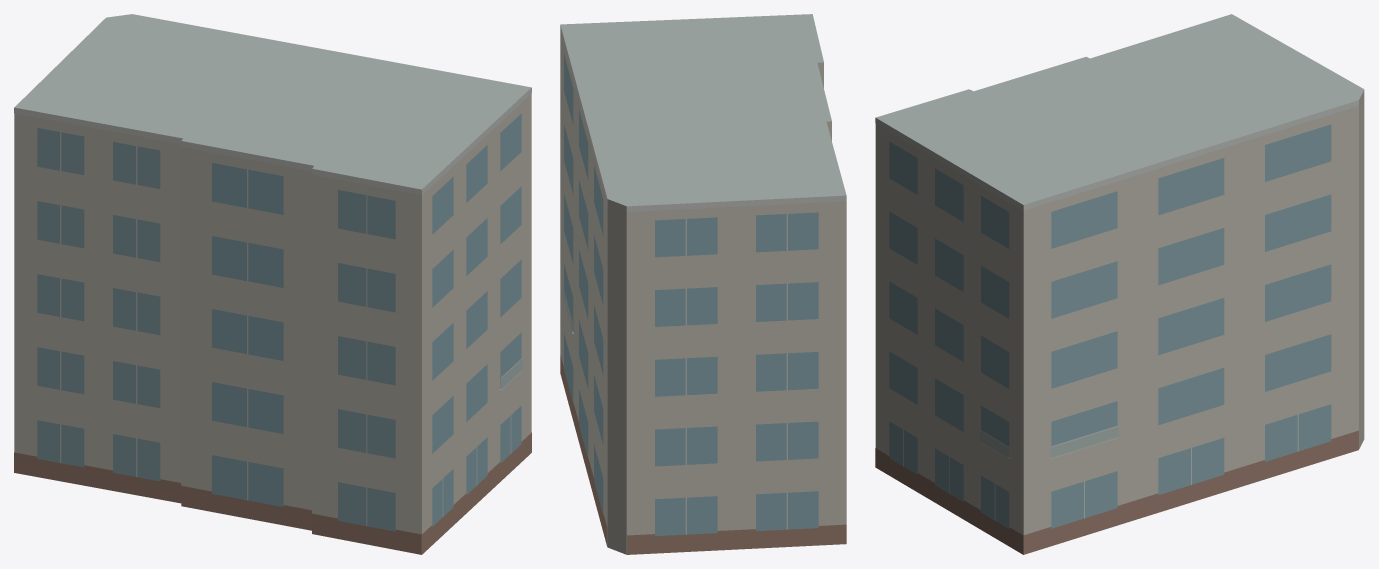
The model's file is survey-upis-32597839.glb.
3 views of the same model, side by side, from view 1: azimuth 30°, elevation 25°; view 2: azimuth 150°, elevation 25°; view 3: azimuth 270°, elevation 25° (orthographic). The views are drawn at different scales.
Parts seen in each view (by area): view 1: survey-upis-32597839.tmp; view 2: survey-upis-32597839.tmp; view 3: survey-upis-32597839.tmp.
Part boxes in pixels (left/top/right/bottom): survey-upis-32597839.tmp: left=14, top=14, right=531, bottom=554; survey-upis-32597839.tmp: left=560, top=14, right=846, bottom=554; survey-upis-32597839.tmp: left=875, top=14, right=1364, bottom=554.
Size of the model in its own units: 17.52 by 14.95 by 18.95.
